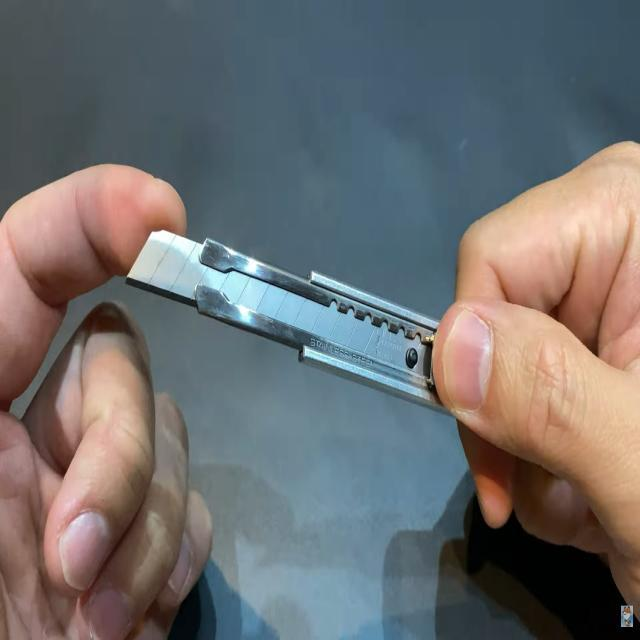cutter: (116, 98, 640, 582)
